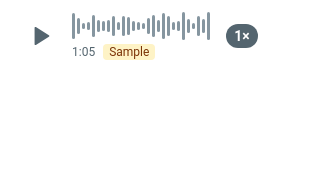
VoiceNoteBubble › shows play, duration, sample label and a speed chip that cycles 1× / 1.5× / 2×
Expected: the button named "Play voice note" is shown, x1=16 y1=12 x2=64 y2=60
Expected: the text "1:05" is shown, x1=72 y1=44 x2=95 y2=60
Step 1. Click the button with test id "speed-chip" → (242, 36), box x1=218 y1=12 x2=266 y2=60
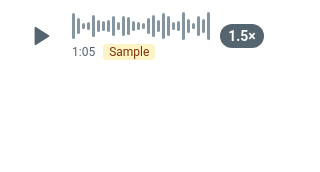
Expected: the button with test id "speed-chip" reads "1.5×"
Step 2. Click the button with test id "speed-chip" → (242, 36), box x1=218 y1=12 x2=266 y2=60
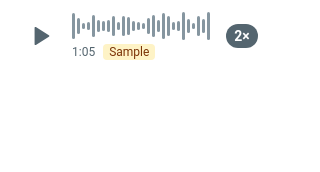
Expected: the button with test id "speed-chip" reads "2×"
Step 3. Click the button with test id "speed-chip" → (242, 36), box x1=218 y1=12 x2=266 y2=60
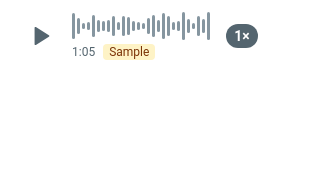
Expected: the button with test id "speed-chip" reads "1×", x1=218 y1=12 x2=266 y2=60
